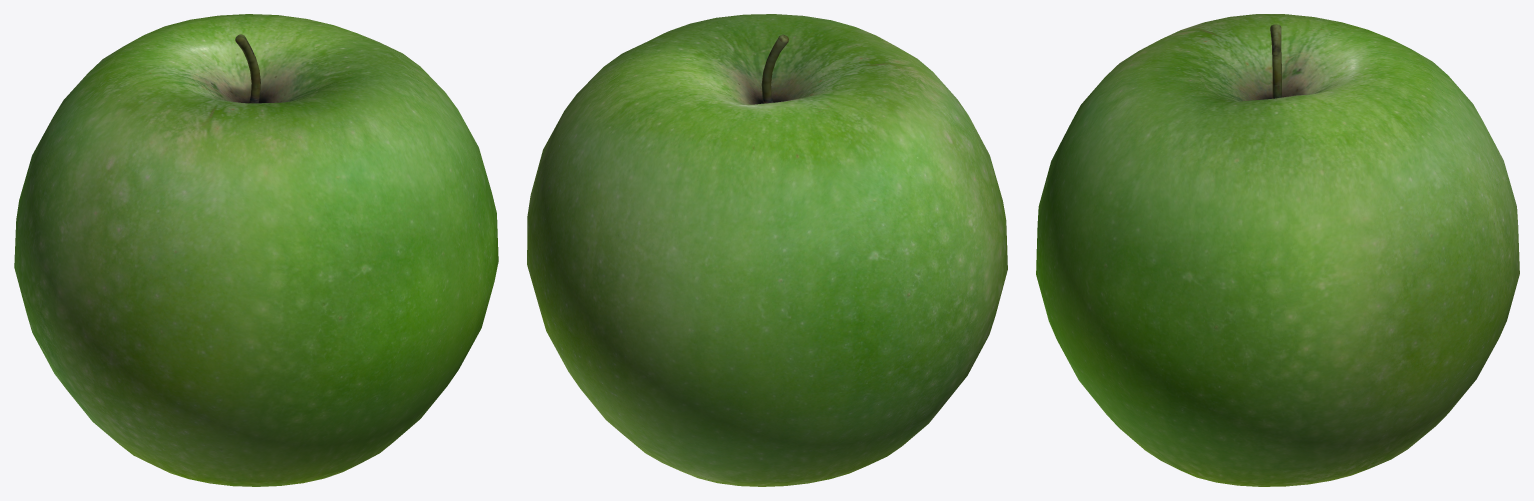
The model's file is Manzana.glb.
3 renders of one model, left to right at view 1: azimuth 30°, elevation 25°; view 2: azimuth 150°, elevation 25°; view 3: azimuth 270°, elevation 25°, orthographic.
Visible parts, largest first — view 1: F04 Green apple 3 (×2); view 2: F04 Green apple 3 (×2); view 3: F04 Green apple 3 (×2).
Part boxes in pixels (x1,y1,x2,y2): F04 Green apple 3 (×2): (14,14,498,486); F04 Green apple 3 (×2): (527,14,1007,486); F04 Green apple 3 (×2): (1036,14,1519,486).
Size of the model in its own units: 6.93 by 6.53 by 6.88.
2 materials, 2 textured.
